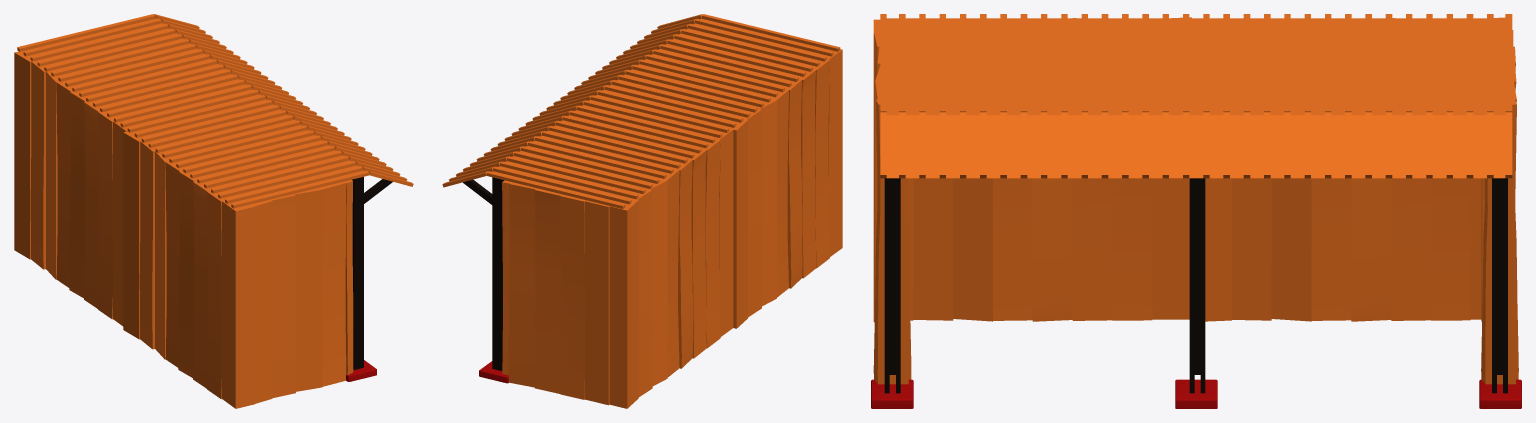
The model's file is Hangar.fbx.
3 views of the same model, side by side, from view 1: azimuth 30°, elevation 25°; view 2: azimuth 150°, elevation 25°; view 3: azimuth 270°, elevation 25° (orthographic). The views are drawn at different scales.
Parts seen in each view (by area): view 1: Hangar; view 2: Hangar; view 3: Hangar.
Part boxes in pixels (<box>): Hangar: <box>14,14,413,408</box>; Hangar: <box>442,14,842,408</box>; Hangar: <box>871,14,1521,408</box>.
Bounding box in the file's own units: 584 × 612 × 1226.
